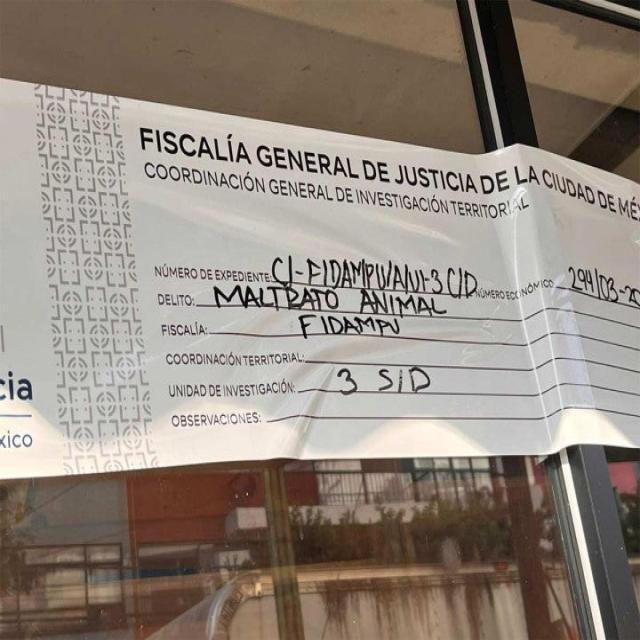stamps: (2, 85, 638, 481)
